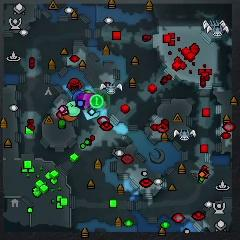p1: (71, 90, 86, 98)
p2: (66, 101, 82, 117)
p3: (76, 92, 99, 112)
p5: (57, 105, 78, 122)
x3: (84, 107, 101, 121)
